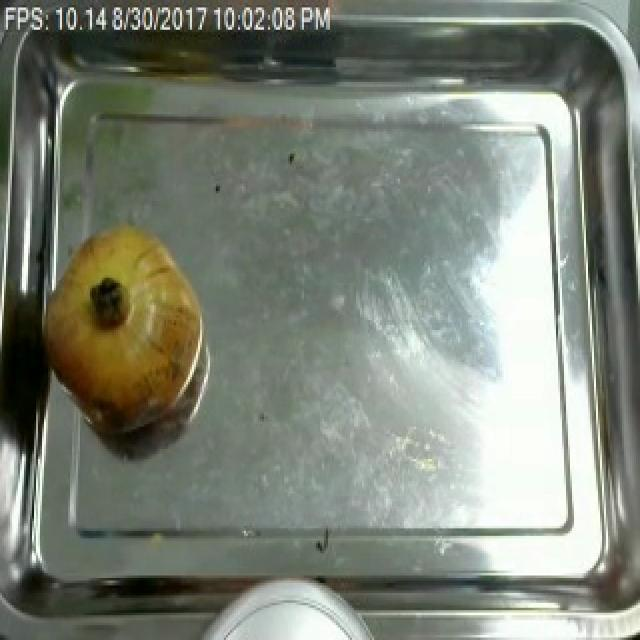fruit: (34, 211, 214, 449)
